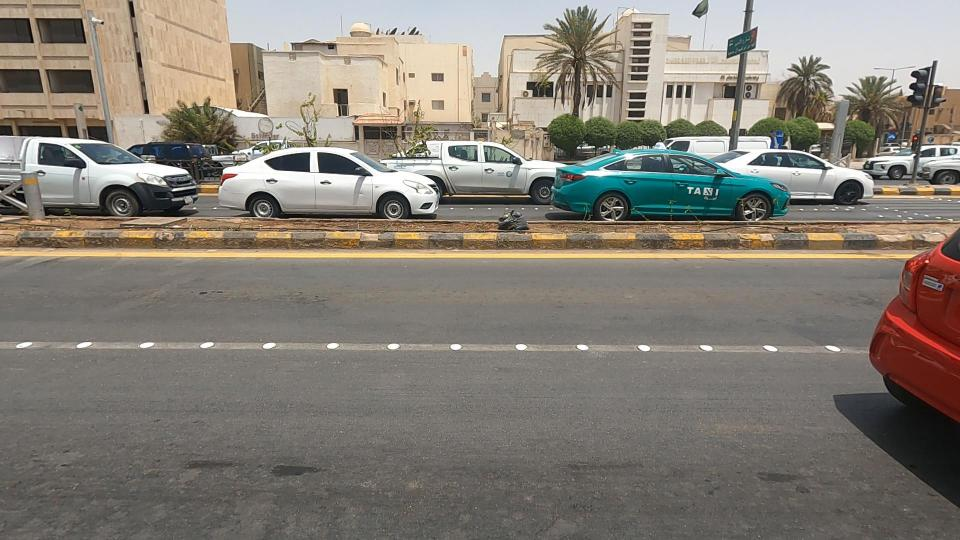GARBAGE: (458, 173, 558, 274)
